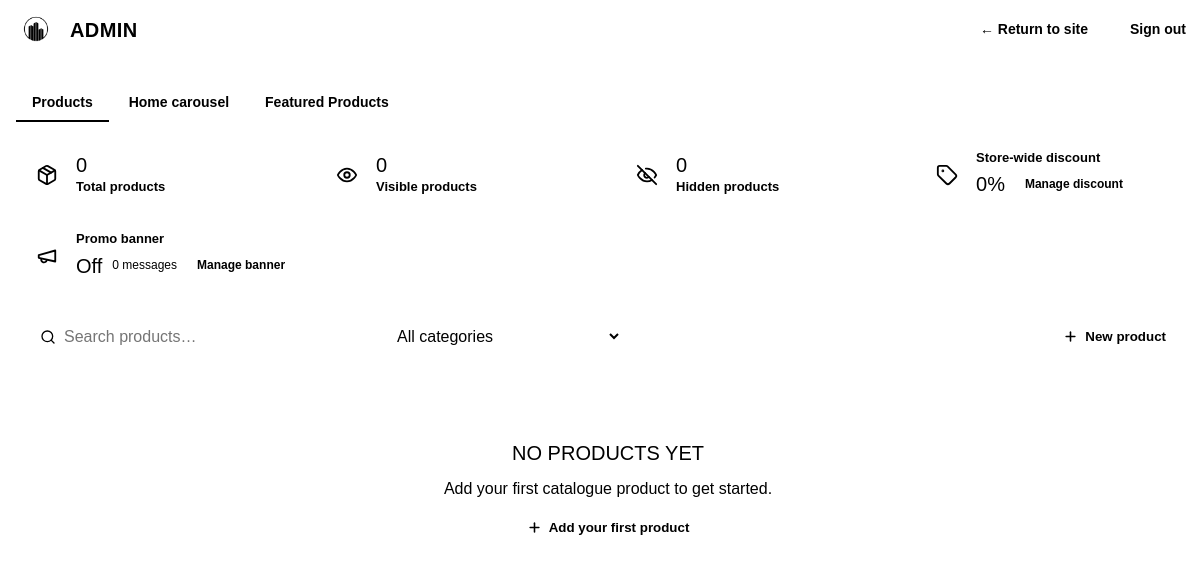
Scenario: AdminPage — signed in › swaps the panel when the Home carousel tab is chosen
Step 1. Click the tab "Home carousel" → point(179, 103), box [113,84,245,122]
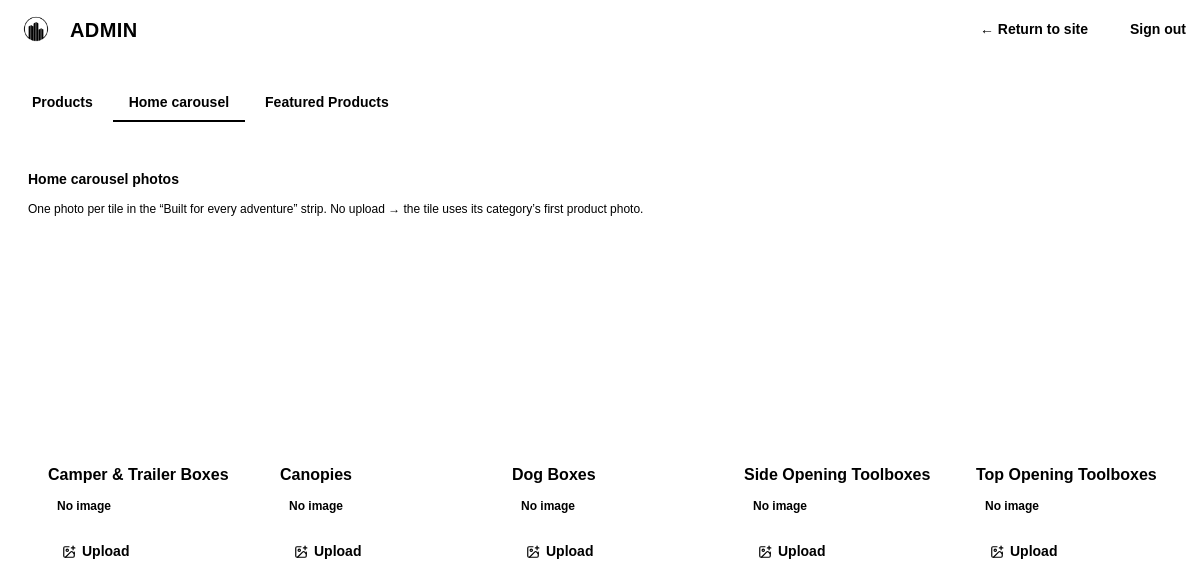
Expected: the text "Home carousel photos" is shown, [28,171,179,187]
Expected: the button "New product" is gone
